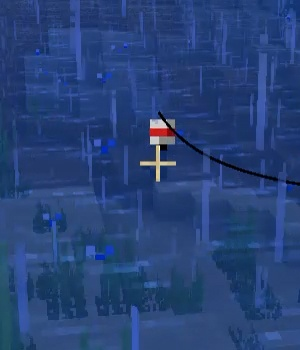up: (141, 112, 179, 182)
